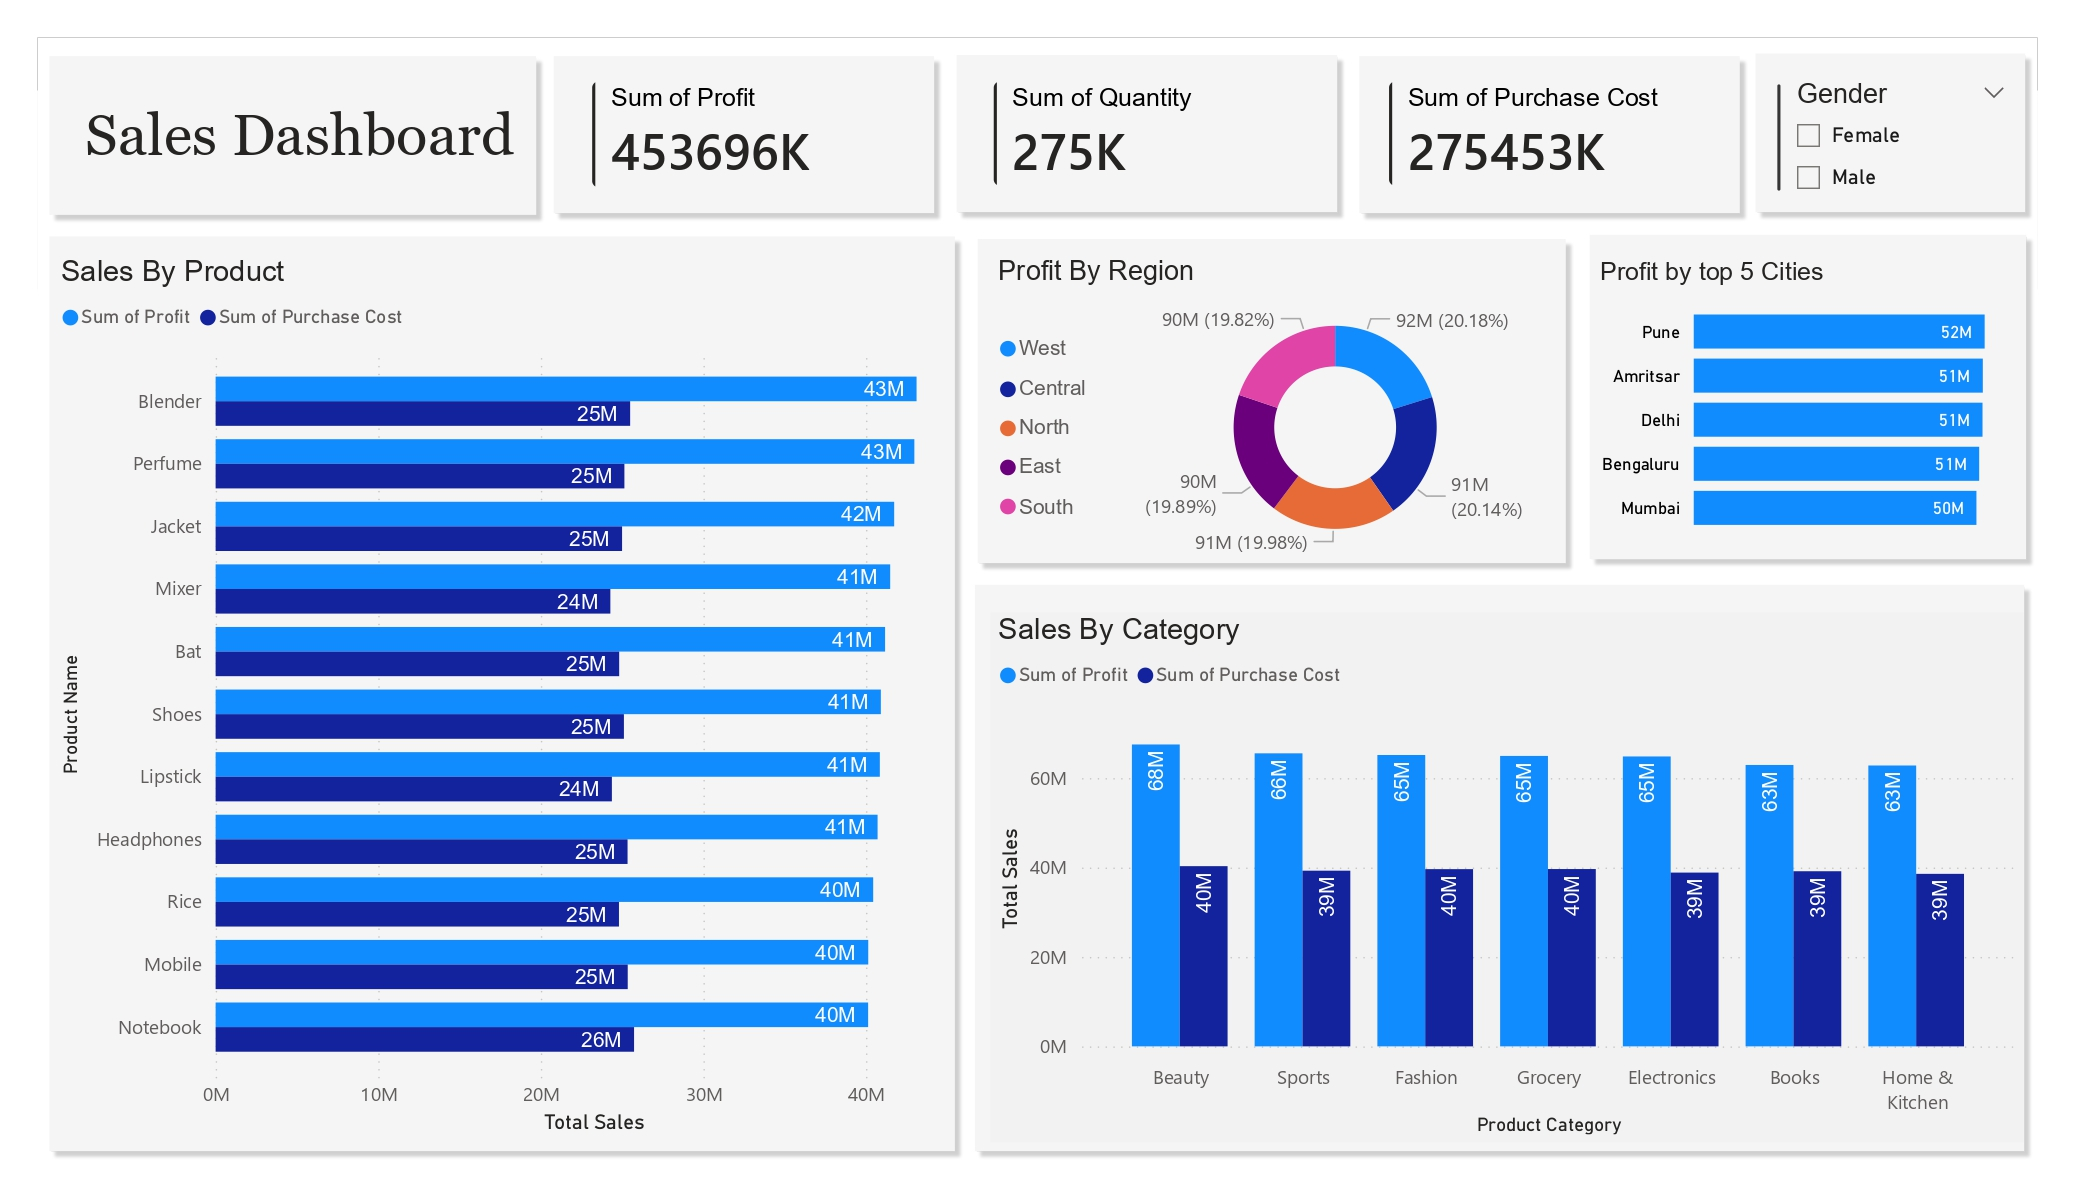

The dashboard page shown, as its layout file describes it:
{"tool":"powerbi","page":{"name":"Page 1","canvas":[1280,720],"ordinal":0},"visuals":[{"type":"shape","box":[581,4,258.2,115.5],"z":0,"group":"g3"},{"type":"group","id":"g1","title":"Group 1","box":[0,4.8,330,116],"z":0},{"type":"shape","box":[0,4.8,325.9,116],"z":0,"group":"g1"},{"type":"shape","box":[839,5,258.2,115.5],"z":0,"group":"g4"},{"type":"shape","box":[323,5.3,258.2,115.5],"z":0,"group":"g2"},{"type":"cardVisual","fields":{"Data":["Sum(Ecommerce Sales Data.Quantity)"]},"box":[594.9,10.7,259.1,101.8],"z":1000,"group":"g3"},{"type":"cardVisual","fields":{"Data":["Sum(Ecommerce Sales Data.Profit)"]},"box":[338,11.2,260,102.7],"z":1000,"group":"g2"},{"type":"cardVisual","fields":{"Data":["Sum(Ecommerce Sales Data.Purchase Cost)"]},"box":[848.1,11.4,259.1,101.8],"z":1000,"group":"g4"},{"type":"textbox","box":[5.5,35.9,324.5,72.3],"z":1000,"group":"g1"},{"type":"group","id":"g2","title":"Sum of profif","box":[323,5.3,275,115],"z":2000},{"type":"group","id":"g3","title":"Sum of profif","box":[581,4,273,115],"z":3000},{"type":"group","id":"g4","title":"Sum of profif","box":[839,5,268,115],"z":4000},{"type":"shape","box":[594,122,391,222],"z":5000},{"type":"donutChart","title":"Profit By Region","fields":{"Y":["Sum(Ecommerce Sales Data.Profit)"],"Category":["Ecommerce Sales Data.Region"]},"box":[610,139,375,201],"z":6000},{"type":"shape","box":[593.3,343.3,685.6,376.7],"z":7000},{"type":"clusteredColumnChart","title":"Sales By Category","fields":{"Category":["Ecommerce Sales Data.Product Category"],"Y":["Sum(Ecommerce Sales Data.Profit)","Sum(Ecommerce Sales Data.Purchase Cost)"]},"box":[610,368,661,339],"z":8000},{"type":"shape","box":[0,120,594,600],"z":9000},{"type":"clusteredBarChart","title":"Sales By Product","fields":{"Category":["Ecommerce Sales Data.Product Name"],"Y":["Sum(Ecommerce Sales Data.Profit)","Sum(Ecommerce Sales Data.Purchase Cost)"]},"box":[10,139,606,568],"z":10000},{"type":"shape","box":[985.6,118.9,294.4,222.2],"z":11000},{"type":"barChart","title":"Profit by top 5 Cities","fields":{"Category":["Ecommerce Sales Data.City"],"Y":["Sum(Ecommerce Sales Data.Profit)"]},"box":[995,139,285,205],"z":12000},{"type":"group","id":"g5","title":"Group 2","box":[1061.8,3,216.9,115.6],"z":12500},{"type":"shape","box":[1092,3,186.7,115.6],"z":12500,"group":"g5"},{"type":"shape","box":[1061.8,30,104.5,68.2],"z":12750,"group":"g5"},{"type":"slicer","fields":{"Values":["Ecommerce Sales Data.Gender"]},"box":[1112.7,20.9,159.1,88.2],"z":13000}]}

Visuals, with their boxes on the page's 1280x720 design canvas (x1, y1, x2, y2). These are canvas units, not pixel positions in the 2075x1200 screenshot, which may show the page scaled, cropped or inside an application window:
shape: box(581, 4, 839, 120)
"Group 1" group: box(0, 5, 330, 121)
shape: box(0, 5, 326, 121)
shape: box(839, 5, 1097, 120)
shape: box(323, 5, 581, 121)
cardVisual - Sum(Ecommerce Sales Data.Quantity): box(595, 11, 854, 112)
cardVisual - Sum(Ecommerce Sales Data.Profit): box(338, 11, 598, 114)
cardVisual - Sum(Ecommerce Sales Data.Purchase Cost): box(848, 11, 1107, 113)
textbox: box(6, 36, 330, 108)
"Sum of profif" group: box(323, 5, 598, 120)
"Sum of profif" group: box(581, 4, 854, 119)
"Sum of profif" group: box(839, 5, 1107, 120)
shape: box(594, 122, 985, 344)
"Profit By Region" donutChart: box(610, 139, 985, 340)
shape: box(593, 343, 1279, 720)
"Sales By Category" clusteredColumnChart: box(610, 368, 1271, 707)
shape: box(0, 120, 594, 720)
"Sales By Product" clusteredBarChart: box(10, 139, 616, 707)
shape: box(986, 119, 1280, 341)
"Profit by top 5 Cities" barChart: box(995, 139, 1280, 344)
"Group 2" group: box(1062, 3, 1279, 119)
shape: box(1092, 3, 1279, 119)
shape: box(1062, 30, 1166, 98)
slicer - Ecommerce Sales Data.Gender: box(1113, 21, 1272, 109)
